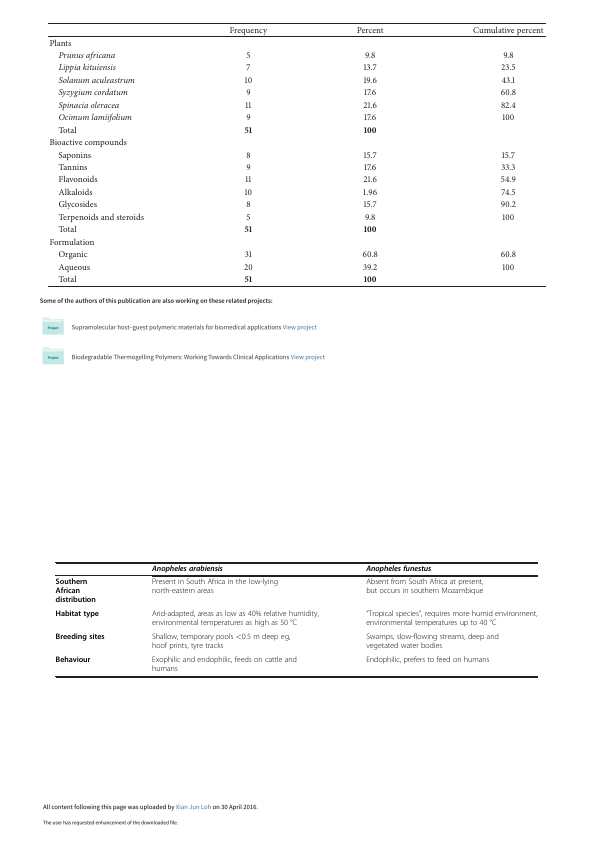borderless: (46, 21, 546, 286), (54, 561, 537, 676)
cell: (365, 610, 538, 629), (151, 610, 320, 629), (151, 656, 298, 675), (151, 633, 291, 652), (365, 633, 500, 652), (151, 578, 279, 597), (365, 578, 484, 597), (365, 656, 490, 666), (54, 578, 97, 606), (57, 212, 145, 223), (48, 137, 128, 148), (57, 75, 136, 86), (57, 112, 133, 123), (472, 25, 545, 36), (57, 88, 129, 98), (57, 100, 120, 111), (151, 565, 224, 574), (57, 50, 116, 61), (365, 565, 432, 574), (57, 63, 117, 73), (54, 633, 106, 643), (48, 237, 95, 248), (54, 610, 100, 620), (229, 25, 268, 36), (57, 175, 99, 185), (57, 200, 98, 210), (57, 187, 94, 198), (57, 262, 91, 273), (54, 656, 91, 666), (57, 249, 89, 260), (57, 150, 92, 160), (57, 162, 88, 173), (356, 25, 385, 36), (48, 38, 72, 48), (57, 125, 78, 136), (57, 274, 78, 285), (57, 225, 78, 235), (500, 100, 517, 111), (500, 187, 517, 198), (362, 249, 379, 260), (500, 249, 517, 260), (362, 75, 378, 86), (362, 100, 378, 111), (500, 162, 516, 173), (362, 187, 378, 198), (362, 262, 378, 273), (500, 63, 517, 73), (500, 88, 517, 98), (500, 175, 517, 185), (500, 200, 517, 210), (501, 75, 516, 86), (362, 175, 378, 185), (363, 112, 377, 123), (501, 112, 515, 123), (363, 162, 377, 173), (501, 212, 515, 223), (501, 262, 515, 273), (363, 63, 378, 73), (363, 150, 378, 160), (501, 150, 516, 160), (363, 200, 378, 210), (502, 50, 515, 61), (363, 88, 377, 98), (363, 274, 378, 283), (364, 50, 376, 61), (364, 212, 376, 223), (243, 262, 254, 273), (363, 125, 378, 133), (363, 225, 378, 233), (244, 75, 253, 86), (244, 187, 253, 198), (244, 249, 253, 260), (244, 100, 252, 111), (244, 274, 253, 283), (244, 175, 252, 185), (245, 112, 252, 123), (245, 162, 252, 173), (244, 125, 253, 133), (244, 225, 253, 233), (245, 88, 252, 98), (245, 150, 252, 160), (245, 200, 252, 210), (245, 50, 251, 61), (245, 212, 251, 223), (245, 63, 251, 73)
